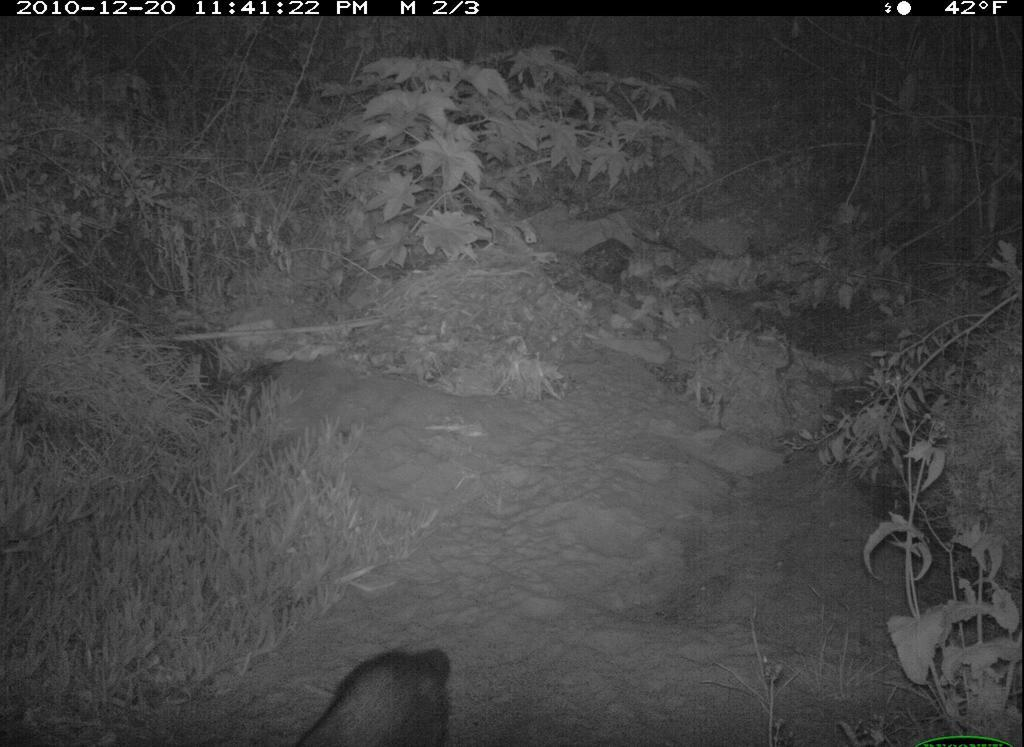raccoon: (282, 641, 492, 744)
